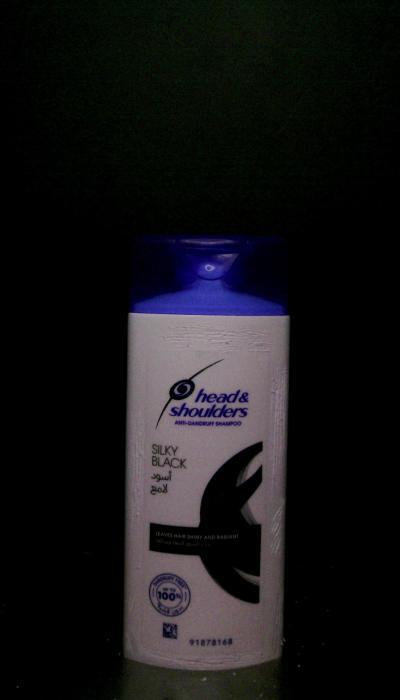scuff_unacc: (154, 322, 274, 354), (263, 364, 289, 501), (127, 408, 146, 534), (144, 647, 246, 667), (262, 506, 290, 564), (266, 588, 286, 652), (128, 549, 146, 614), (123, 627, 146, 659)
